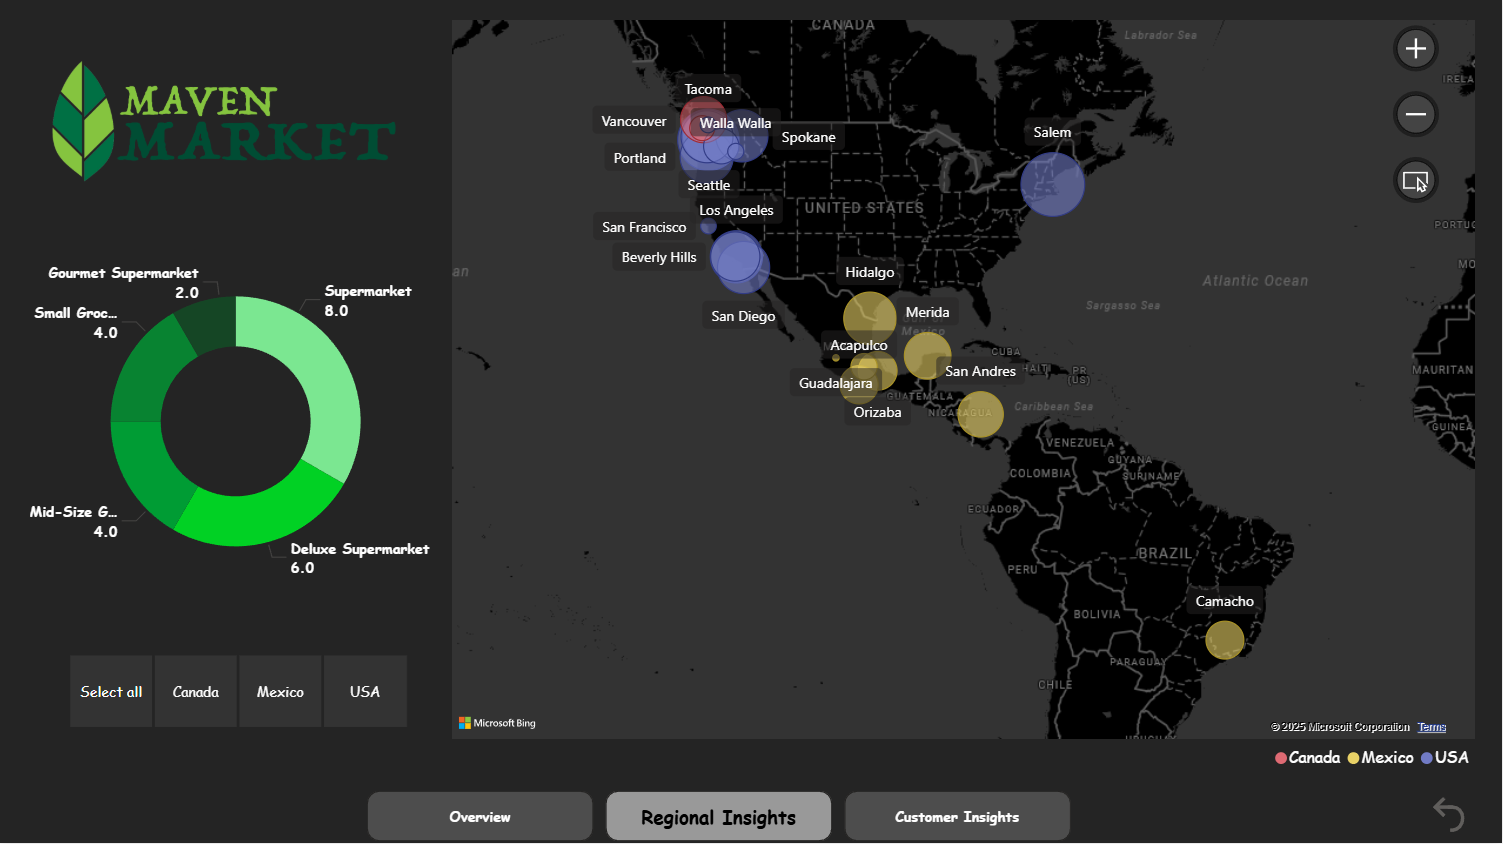

This screenshot's page, from the dashboard's own definition file:
{"tool":"powerbi","page":{"name":"Regional Insights","canvas":[1280,720],"ordinal":1},"visuals":[{"type":"image","box":[33.2,27.4,316,155.8],"z":0},{"type":"map","fields":{"Size":["Measure.Quantity Sold"],"Category":["Stores.store_city"],"Series":["Stores.store_country"]},"box":[381.7,15,880,651.7],"z":1000},{"type":"slicer","fields":{"Values":["Customers.customer_country"]},"box":[35.6,553.5,336.4,74.8],"z":2000},{"type":"actionButton","box":[1215,675,46.2,40],"z":3000},{"type":"donutChart","title":"Monthly revenue Trending","fields":{"Category":["Stores.store_type"],"Y":["Stores.store_type"]},"box":[24.9,169.1,356,384.4],"z":4000},{"type":"pageNavigator","box":[313.8,675,600,43.8],"z":5000}]}

Visuals, with their boxes in screenshot pixels (x1, y1, x2, y2), scaled from the page's 1280x720 canvas onto the 1503x844 screenshot:
image: crop(39, 32, 410, 215)
map - Measure.Quantity Sold x Stores.store_city: crop(448, 18, 1482, 782)
slicer - Customers.customer_country: crop(42, 649, 437, 737)
actionButton: crop(1427, 791, 1481, 838)
"Monthly revenue Trending" donutChart: crop(29, 198, 447, 649)
pageNavigator: crop(368, 791, 1073, 843)
